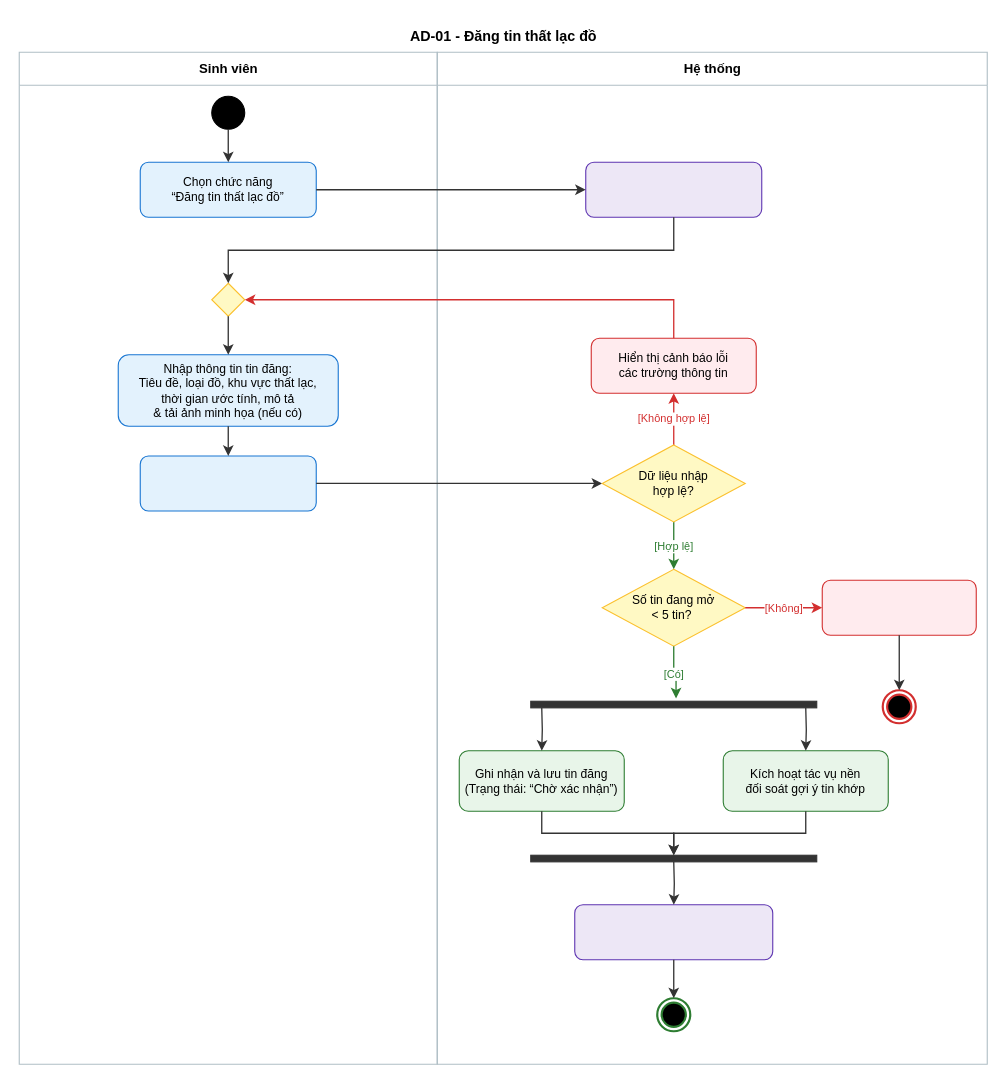
Some shapes in this 1007 by 1084 pixel diagram are drawn without their labels. Each missing label, with the centre of its shape:
Hiển thị biểu mẫu đăng tin thất lạc đồ: (673,189)
Hiển thị thông báo tiếp nhận đăng tin thành công: (673,932)
Nhấn nút “Đăng tin” để gửi yêu cầu: (227,483)
Thông báo từ chối do vượt quá giới hạn 5 tin: (898,607)
